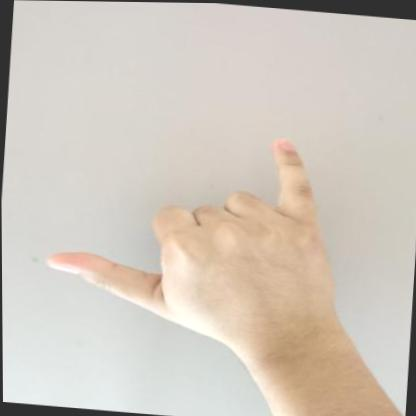Y: (34, 110, 349, 358)
